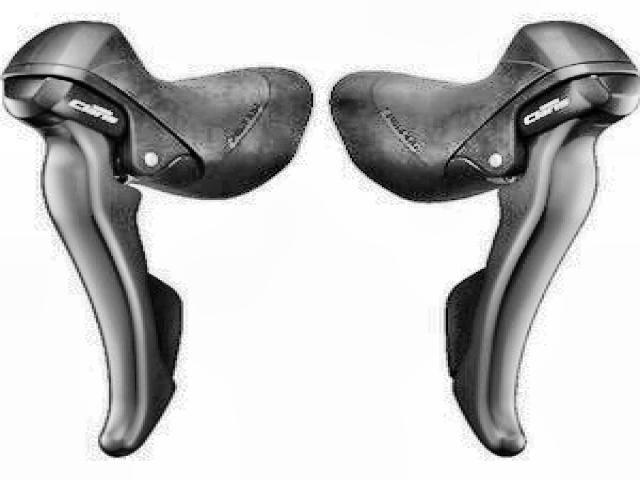sti_shifter: (331, 18, 640, 458), (4, 18, 309, 456)
